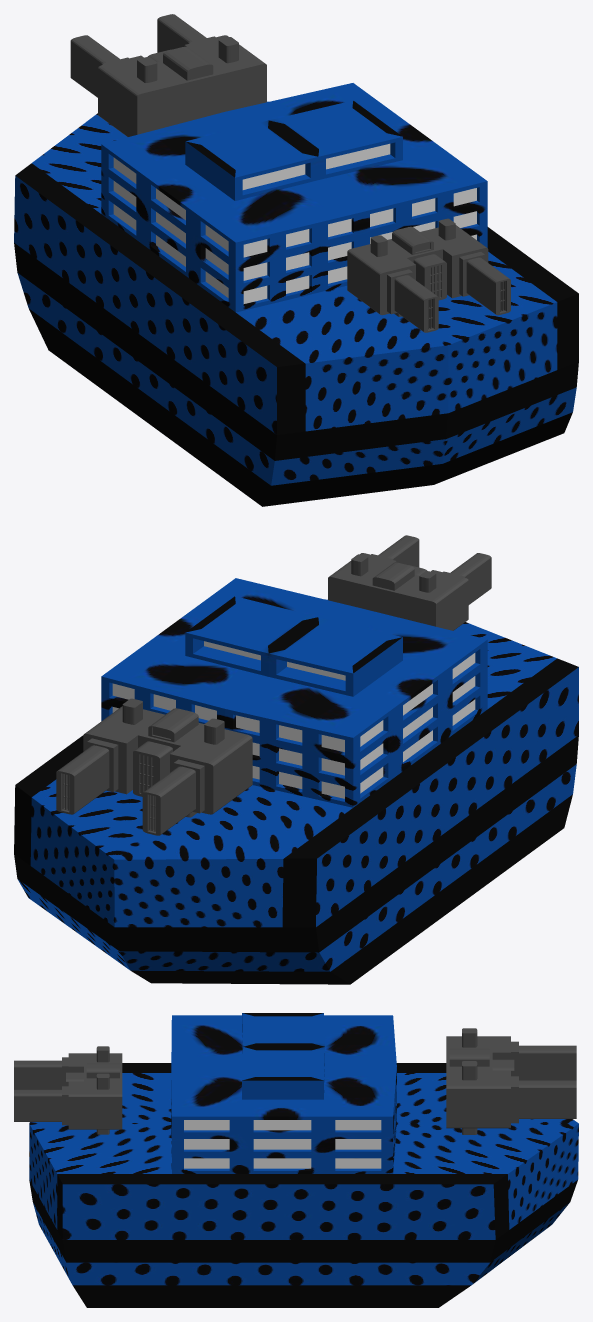
Rendered from BLUE_LightCruiser.fbx.
The picture shows the model from 3 angles, top to bottom: view 1: azimuth 30°, elevation 25°; view 2: azimuth 150°, elevation 25°; view 3: azimuth 270°, elevation 25°; orthographic projection. The views are drawn at different scales.
Parts seen in each view (by area): view 1: Cube, Cube.001, Cube.002; view 2: Cube, Cube.001, Cube.002; view 3: Cube, Cube.001, Cube.002.
Boxes of the visible parts, x1,y1,x2,y2 form: Cube: [14, 83, 578, 506]; Cube.001: [70, 14, 266, 136]; Cube.002: [347, 218, 510, 332]; Cube: [14, 578, 578, 984]; Cube.001: [56, 698, 252, 835]; Cube.002: [328, 535, 491, 630]; Cube: [29, 1013, 578, 1307]; Cube.001: [446, 1028, 576, 1134]; Cube.002: [14, 1046, 122, 1134].
Size of the model in its own units: 420 by 328 by 828.
